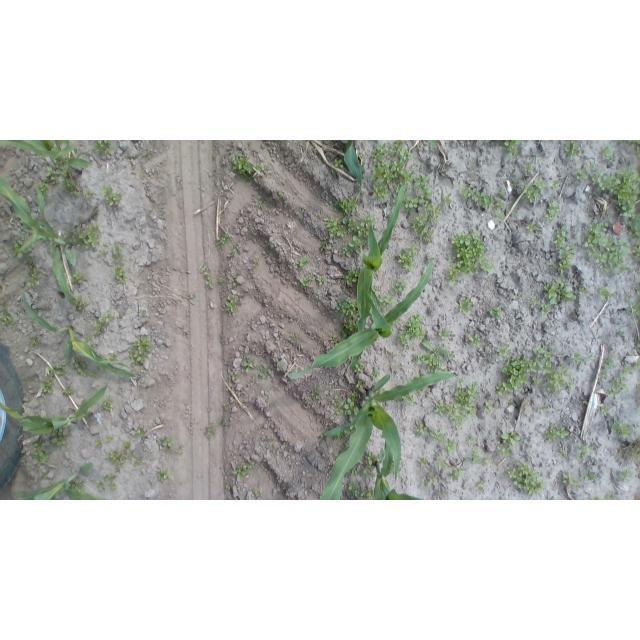Maize: (287, 251, 433, 380), (320, 371, 457, 499), (1, 180, 80, 305), (19, 295, 137, 378), (358, 182, 406, 333), (1, 384, 108, 436), (1, 140, 92, 184), (10, 464, 97, 501), (371, 442, 421, 499), (344, 140, 363, 204)
Weeds: (498, 345, 574, 395), (583, 221, 630, 273), (369, 141, 411, 199), (446, 231, 493, 282), (592, 169, 640, 217), (509, 461, 546, 495), (418, 340, 454, 372), (434, 403, 476, 430), (554, 227, 575, 274), (405, 175, 432, 208), (460, 184, 492, 209), (72, 224, 101, 249), (547, 280, 576, 305), (548, 366, 574, 392), (397, 243, 419, 273), (413, 215, 434, 243), (130, 337, 151, 363), (325, 216, 348, 239), (107, 442, 131, 464), (454, 382, 478, 404), (618, 441, 640, 464), (429, 194, 449, 218), (523, 180, 543, 204), (608, 376, 628, 398), (41, 365, 55, 396), (26, 258, 40, 286), (34, 444, 51, 467), (234, 157, 255, 175), (406, 313, 423, 335), (545, 426, 569, 441), (337, 197, 355, 215), (342, 397, 360, 415), (349, 219, 369, 235), (73, 357, 88, 378), (106, 185, 121, 206), (611, 424, 631, 439), (627, 214, 640, 236), (104, 475, 119, 494), (202, 265, 214, 288), (347, 481, 362, 499), (95, 140, 114, 154), (545, 203, 559, 222), (65, 169, 76, 193), (391, 279, 407, 295), (349, 237, 364, 254), (413, 421, 428, 438), (504, 141, 522, 155), (47, 168, 63, 183), (622, 363, 640, 376), (232, 462, 251, 474), (502, 432, 521, 444), (343, 321, 358, 336), (52, 431, 68, 445), (345, 301, 358, 318), (241, 358, 255, 373), (566, 141, 580, 156), (601, 285, 616, 299), (115, 241, 124, 264), (331, 397, 342, 415), (226, 298, 240, 312), (458, 299, 472, 313), (379, 296, 395, 308), (634, 286, 640, 317), (435, 456, 449, 469), (1, 312, 15, 325), (470, 333, 483, 347), (576, 167, 588, 182), (561, 474, 579, 484), (337, 300, 350, 313), (498, 443, 511, 456), (13, 236, 27, 248), (11, 244, 23, 258), (344, 271, 356, 285), (113, 267, 124, 282), (366, 452, 379, 464), (600, 146, 612, 159), (71, 273, 85, 284), (94, 319, 105, 333), (296, 257, 310, 268), (448, 471, 464, 480), (158, 469, 169, 482), (397, 332, 408, 345), (431, 430, 444, 441), (631, 244, 640, 259), (74, 481, 86, 492), (490, 306, 502, 317), (218, 232, 228, 245), (599, 403, 609, 416), (472, 451, 482, 464), (363, 489, 374, 500), (103, 399, 114, 410), (439, 329, 450, 340), (259, 366, 269, 378), (496, 346, 511, 354), (406, 396, 418, 406), (599, 369, 607, 383), (468, 434, 479, 444), (446, 439, 457, 449), (206, 426, 214, 439), (162, 438, 175, 446), (495, 211, 505, 221), (635, 140, 640, 160), (529, 296, 539, 306), (635, 384, 640, 404), (312, 390, 321, 401), (104, 311, 112, 323), (484, 400, 492, 412), (607, 356, 614, 369), (134, 457, 143, 467), (335, 159, 344, 169), (55, 365, 65, 374), (523, 161, 532, 171), (528, 221, 537, 231), (484, 453, 493, 463), (578, 451, 587, 461), (65, 388, 76, 396), (30, 336, 38, 347), (477, 485, 486, 494), (75, 298, 84, 307), (356, 365, 365, 374), (40, 182, 48, 192), (543, 303, 551, 313), (97, 481, 104, 492), (575, 353, 582, 364), (318, 278, 327, 286), (261, 389, 270, 397), (232, 372, 240, 381), (580, 287, 588, 296), (351, 467, 359, 475), (132, 429, 140, 437), (300, 279, 308, 287), (142, 149, 150, 157), (102, 248, 110, 256), (550, 180, 558, 188), (371, 371, 379, 379), (356, 380, 364, 388), (589, 472, 597, 480), (227, 250, 234, 259), (253, 491, 260, 500), (558, 453, 567, 460), (321, 242, 327, 252), (364, 468, 372, 475), (430, 472, 437, 480), (111, 354, 118, 362), (496, 201, 504, 208), (622, 471, 630, 478), (609, 494, 618, 500), (538, 406, 548, 411), (191, 294, 198, 301), (87, 191, 94, 198), (499, 189, 506, 196), (420, 458, 428, 464), (252, 258, 260, 264), (257, 164, 265, 170), (351, 390, 359, 396), (373, 286, 382, 291), (259, 199, 265, 206), (42, 473, 49, 479), (139, 310, 146, 316), (549, 262, 555, 269), (580, 444, 587, 450), (98, 440, 103, 448), (458, 378, 466, 383), (480, 476, 486, 482), (439, 492, 445, 498), (330, 337, 336, 343), (596, 167, 602, 173), (590, 161, 595, 168), (224, 403, 228, 411), (115, 466, 120, 472), (424, 480, 428, 487), (107, 436, 114, 440), (343, 247, 347, 254), (291, 333, 298, 337), (584, 400, 589, 405), (218, 278, 224, 282), (89, 371, 95, 375), (227, 485, 233, 489), (104, 242, 110, 246), (278, 189, 282, 194), (590, 444, 594, 449), (232, 282, 236, 286), (594, 497, 599, 500), (223, 420, 226, 425)
